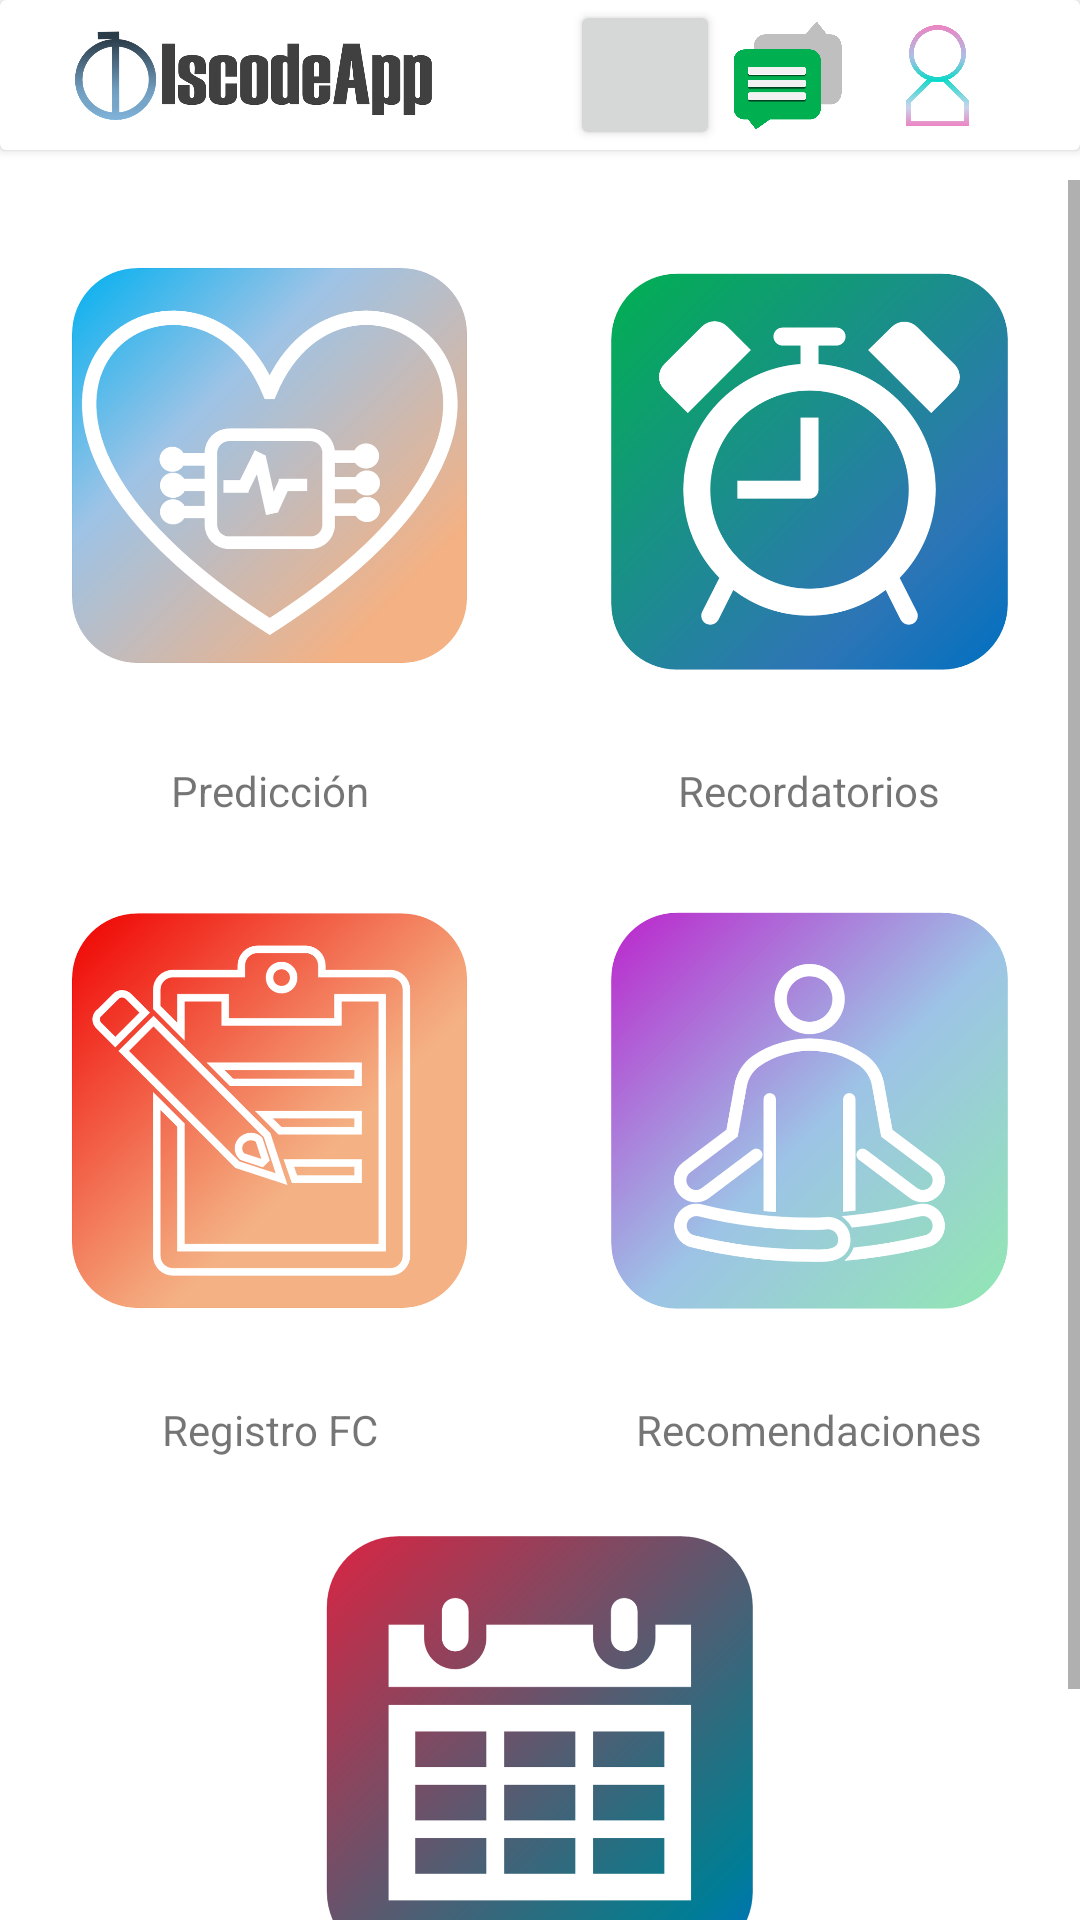

Icons on this 1080px x 1920px Android screen, each with its box as (x1, y1, x2, y2):
user: (906, 25, 969, 126)
